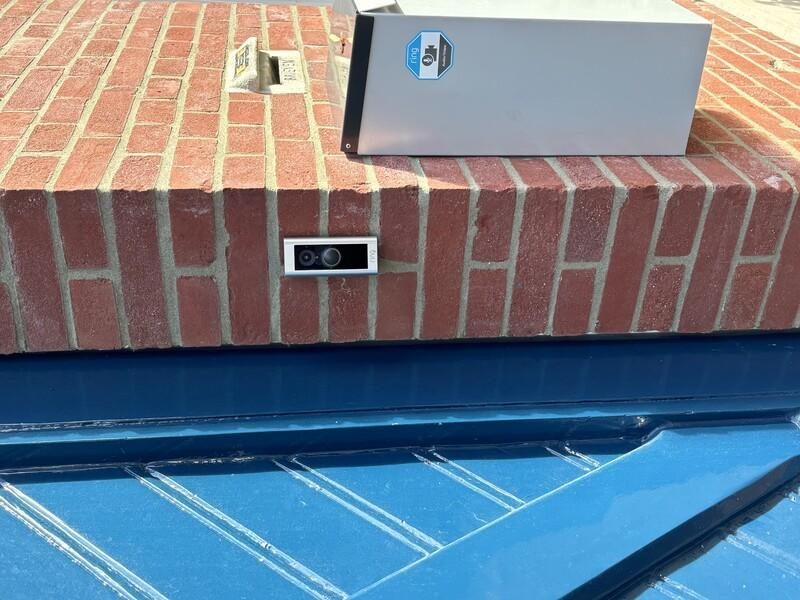doorbell: (320, 275, 372, 393)
